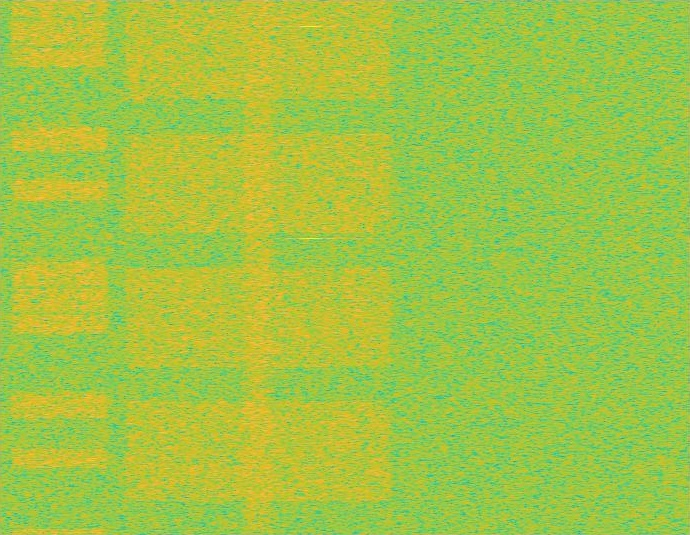5G: (120, 0, 396, 534)
DSSS: (240, 0, 277, 534)
LTE: (8, 0, 112, 534)
Radar: (304, 0, 317, 534)
